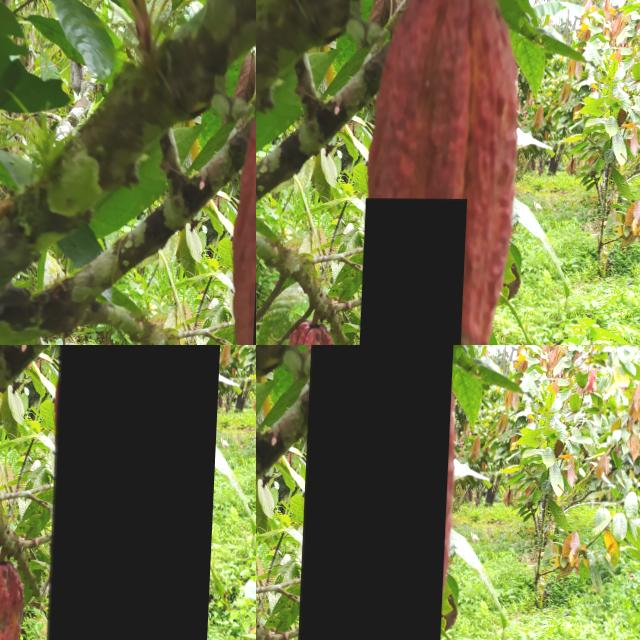Fitoftora: (297, 345, 455, 640)
Monilia: (48, 345, 226, 640)
Sana: (359, 197, 469, 345), (316, 153, 347, 243), (256, 124, 272, 231)
